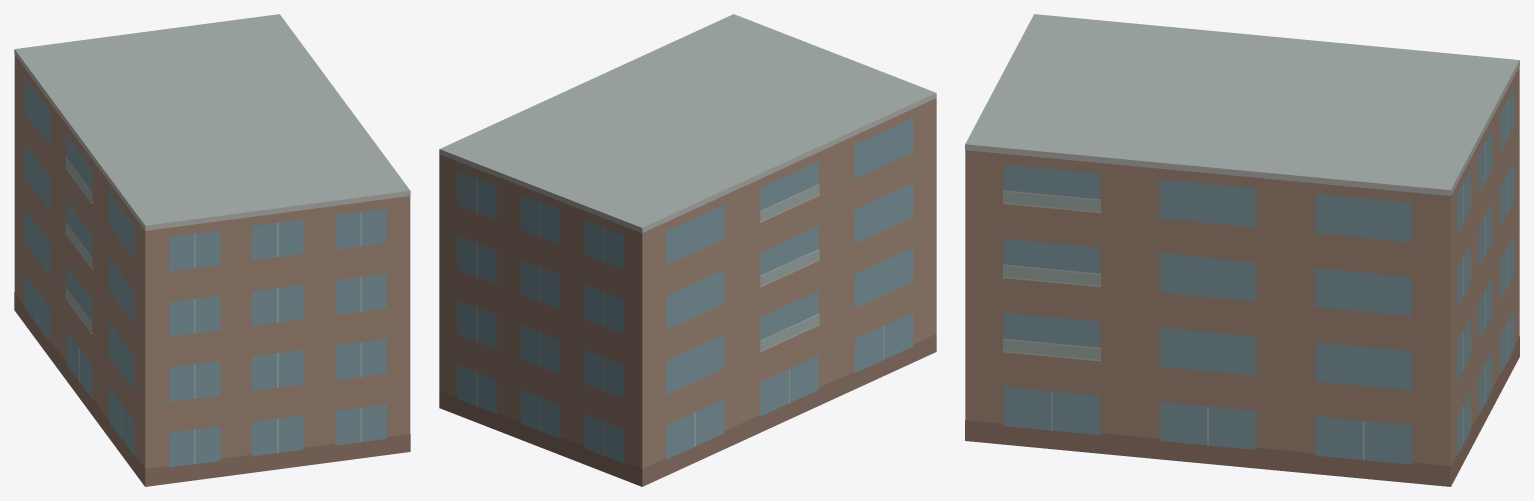
The model's file is residential-48b803d3-c17f-4c96-b015-6bed9e6fa2eb.glb.
3 renders of one model, left to right at view 1: azimuth 30°, elevation 25°; view 2: azimuth 150°, elevation 25°; view 3: azimuth 270°, elevation 25°, orthographic. The views are drawn at different scales.
Visible parts, largest first — view 1: residential-48b803d3-c17f-4c96-b015-6bed9e6fa2eb.tmp; view 2: residential-48b803d3-c17f-4c96-b015-6bed9e6fa2eb.tmp; view 3: residential-48b803d3-c17f-4c96-b015-6bed9e6fa2eb.tmp.
Boxes of the visible parts, box(x1,y1,x2,y2) form: residential-48b803d3-c17f-4c96-b015-6bed9e6fa2eb.tmp: box(14, 14, 410, 486); residential-48b803d3-c17f-4c96-b015-6bed9e6fa2eb.tmp: box(439, 14, 936, 486); residential-48b803d3-c17f-4c96-b015-6bed9e6fa2eb.tmp: box(965, 14, 1519, 486).
Bounding box in the file's own units: 15.55 × 12.2 × 20.68.
